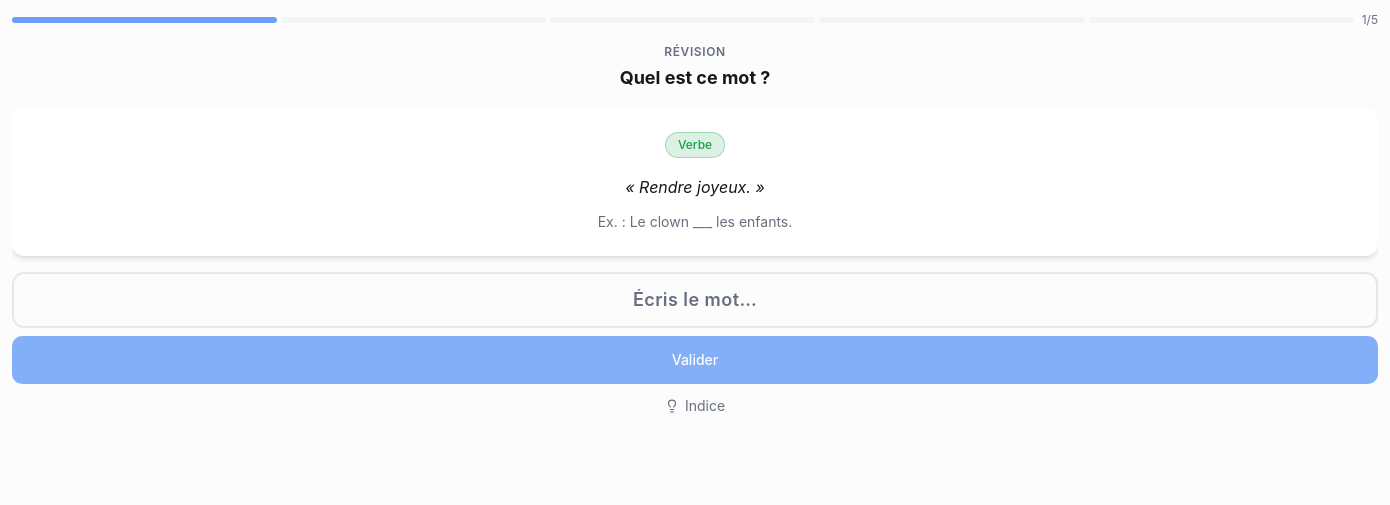
it: ActiveRecall — progression de maîtrise › affiche n/3 sur l'écran de réponse (bonne ou mauvaise réponse)
Type "mauvais" into the field with placeholder "Écris le mot…". click: (695, 300)
box: x1=12 y1=272 x2=1378 y2=328
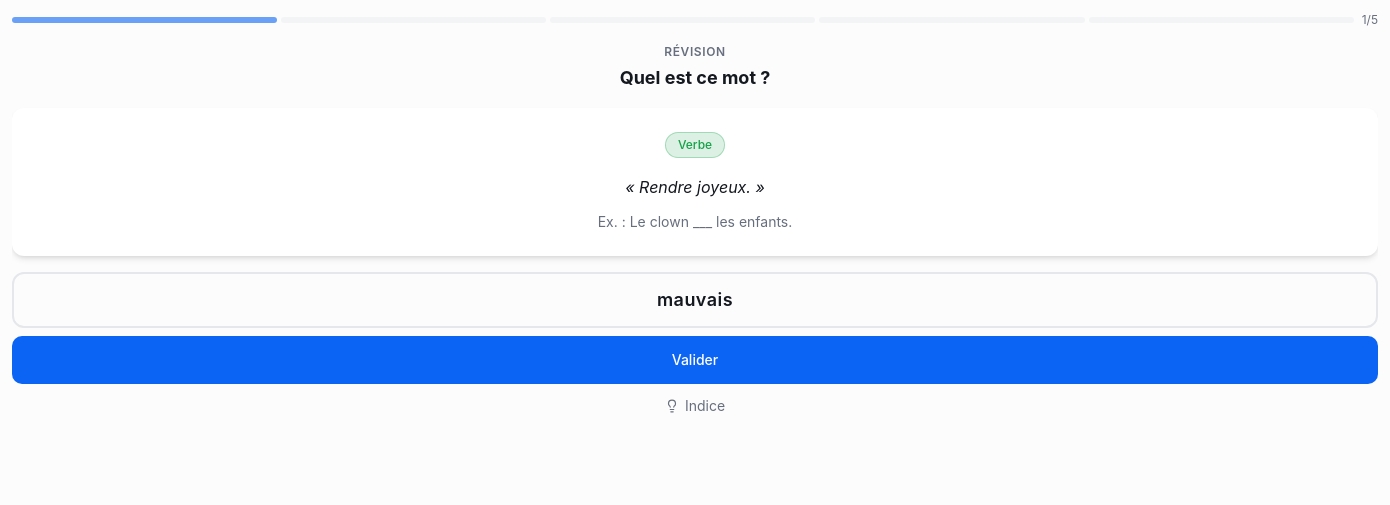
Click the button "Valider". click: (695, 360)
box: x1=12 y1=336 x2=1378 y2=384
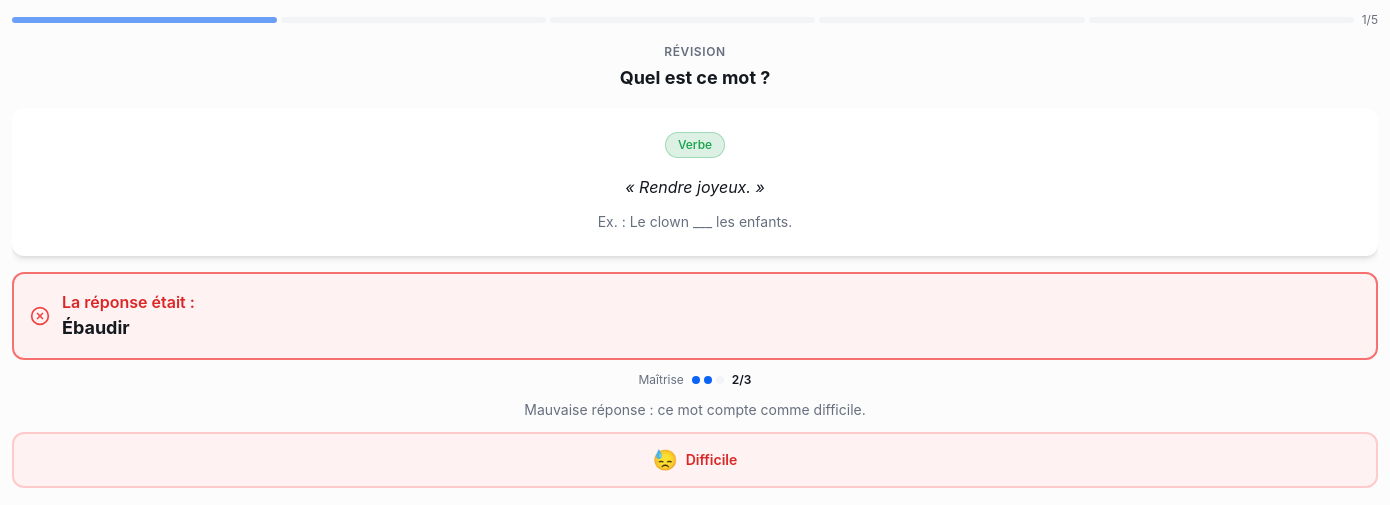
expect the element with test id "mastery-progress" shows "2/3": met, box x1=638 y1=372 x2=752 y2=387
